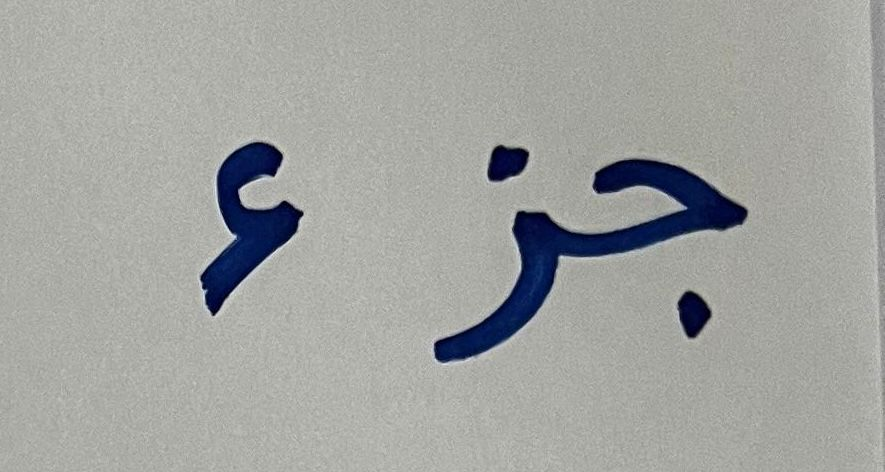hamza: (140, 86, 344, 394)
jeem: (570, 123, 784, 351)
zain: (352, 119, 564, 378)
